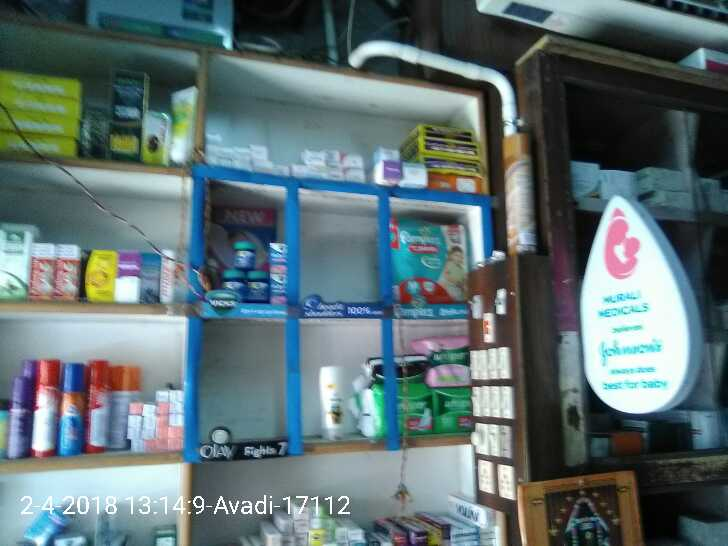vicks: (221, 238, 288, 307)
